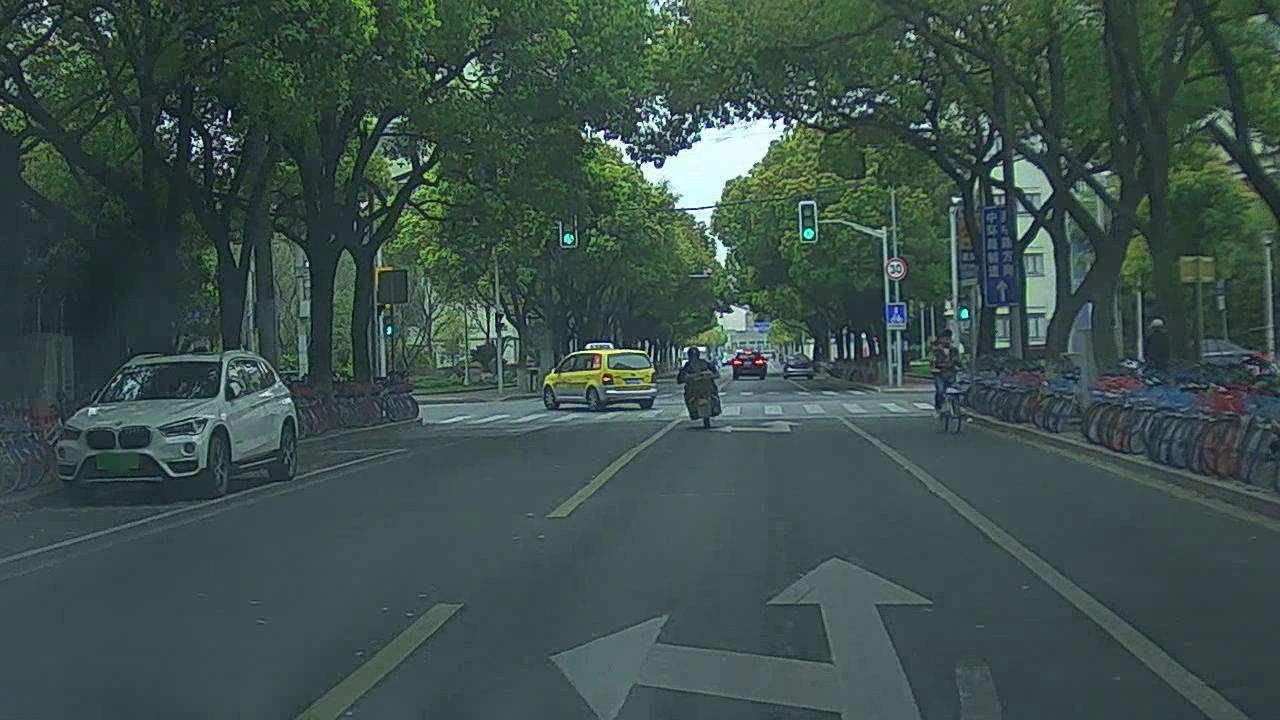traffic_light: (799, 204, 821, 241), (559, 213, 577, 246)
